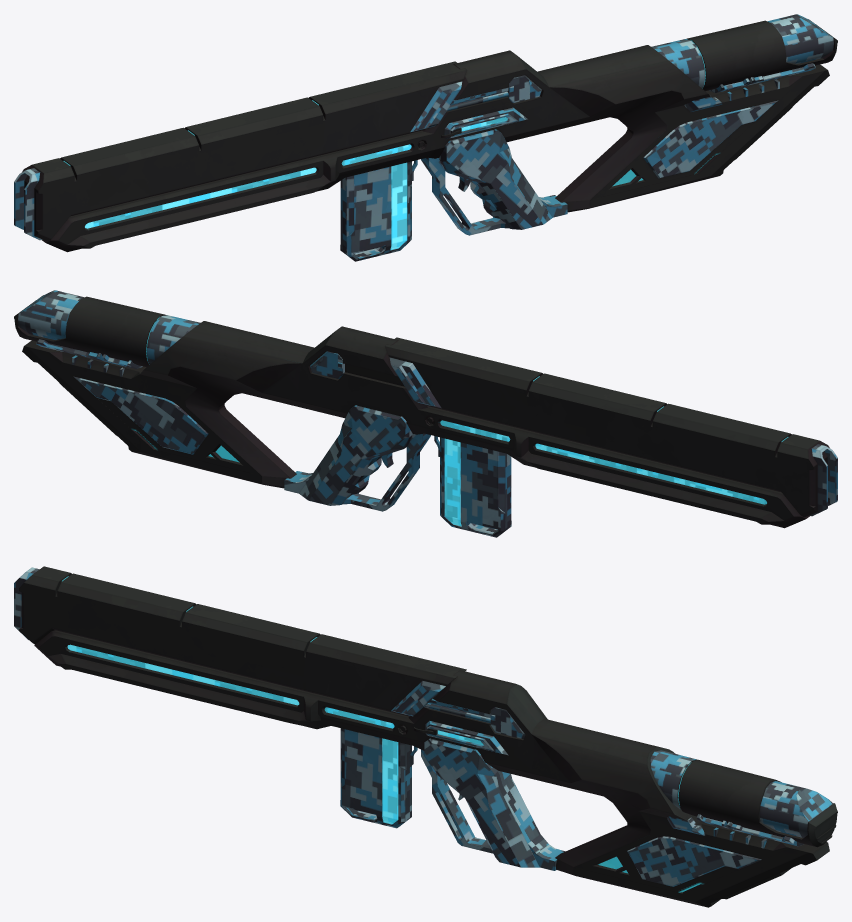
3 renders of one model, top to bottom at view 1: azimuth 30°, elevation 25°; view 2: azimuth 150°, elevation 25°; view 3: azimuth 330°, elevation 25°, orthographic.
Visible parts, largest first — view 1: Ar3, Ar3_Magazine; view 2: Ar3, Ar3_Magazine; view 3: Ar3, Ar3_Magazine.
Part boxes in pixels (x1,y1,x2,y2): Ar3: [14, 14, 837, 252]; Ar3_Magazine: [340, 161, 411, 261]; Ar3: [14, 290, 837, 528]; Ar3_Magazine: [440, 437, 511, 537]; Ar3: [14, 566, 837, 907]; Ar3_Magazine: [340, 728, 411, 828].
Size of the model in its own units: 781 by 156 by 56.93.
